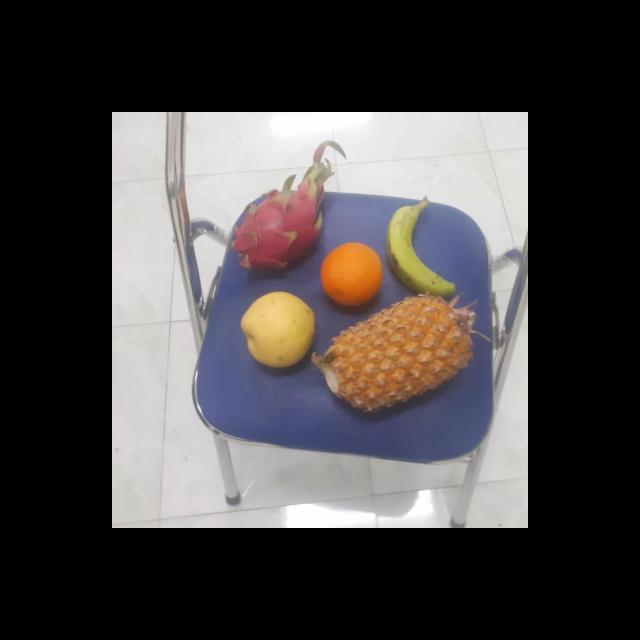banana: (386, 200, 464, 298)
orange: (319, 242, 387, 310)
pear: (240, 290, 318, 370)
pineapple: (318, 294, 481, 414)
pitaya: (232, 184, 330, 276)
